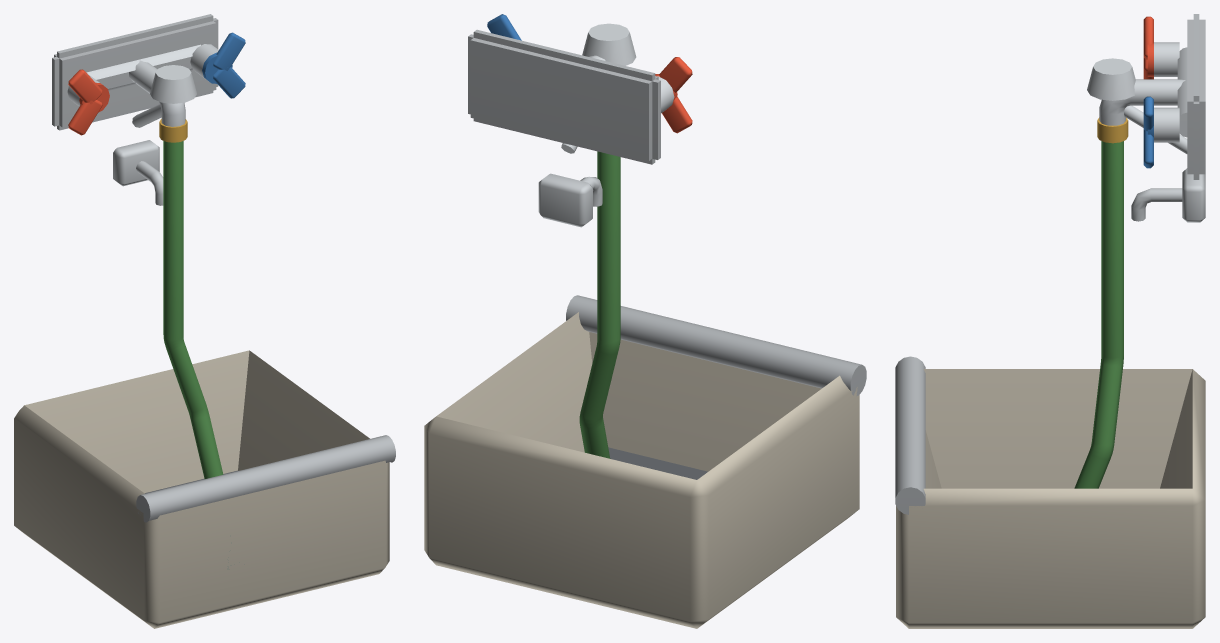
Rendered from SM_ServiceSink_Floor_01.glb.
The picture shows the model from 3 angles, left to right: view 1: azimuth 30°, elevation 25°; view 2: azimuth 150°, elevation 25°; view 3: azimuth 270°, elevation 25°; orthographic projection. The views are drawn at different scales.
Parts seen in each view (by area): view 1: SM_ServiceSink_Floor_01; view 2: SM_ServiceSink_Floor_01; view 3: SM_ServiceSink_Floor_01.
Part boxes in pixels (box(x1,y1,x2,y2)): SM_ServiceSink_Floor_01: box(14, 14, 395, 628); SM_ServiceSink_Floor_01: box(424, 14, 866, 628); SM_ServiceSink_Floor_01: box(895, 14, 1205, 628).
Size of the model in its own units: 0.6 by 1.1 by 0.6012.
Materials: 1 (1 with a texture image).
